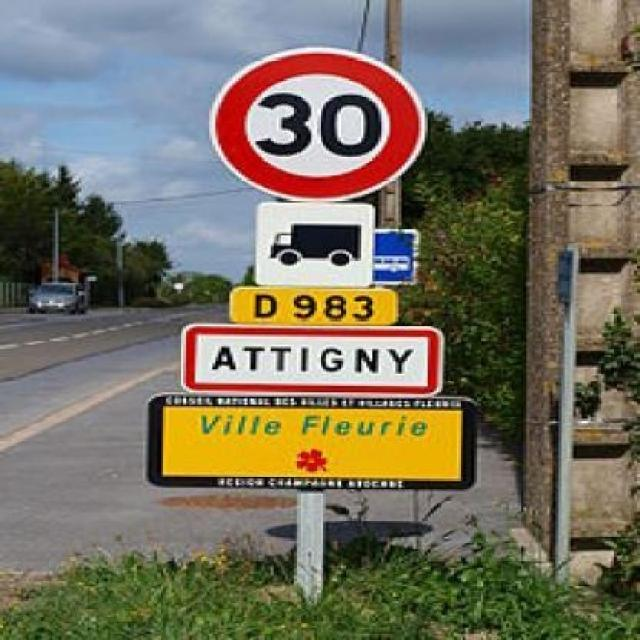forb_speed_over_30: (211, 45, 426, 201)
